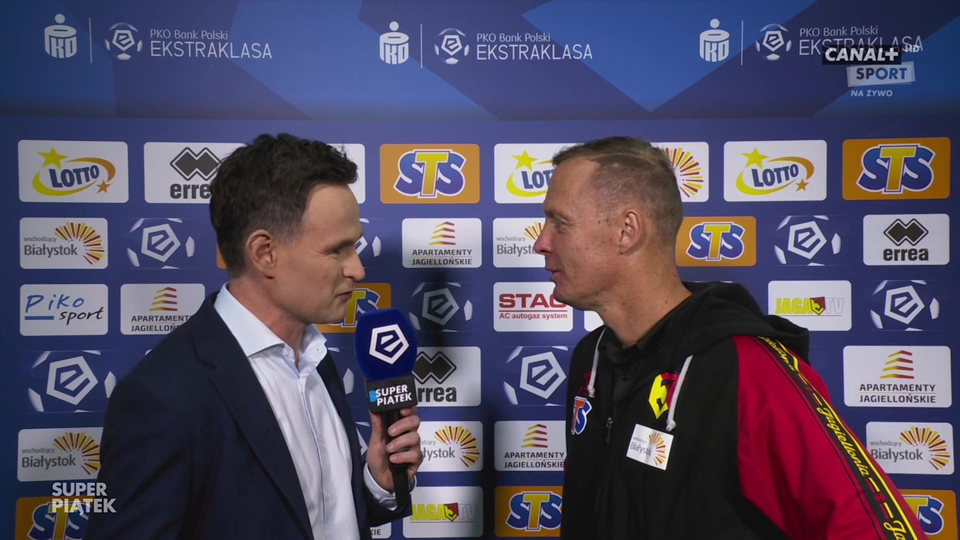pko: (40, 13, 78, 60), (375, 19, 413, 66), (696, 17, 733, 64)
